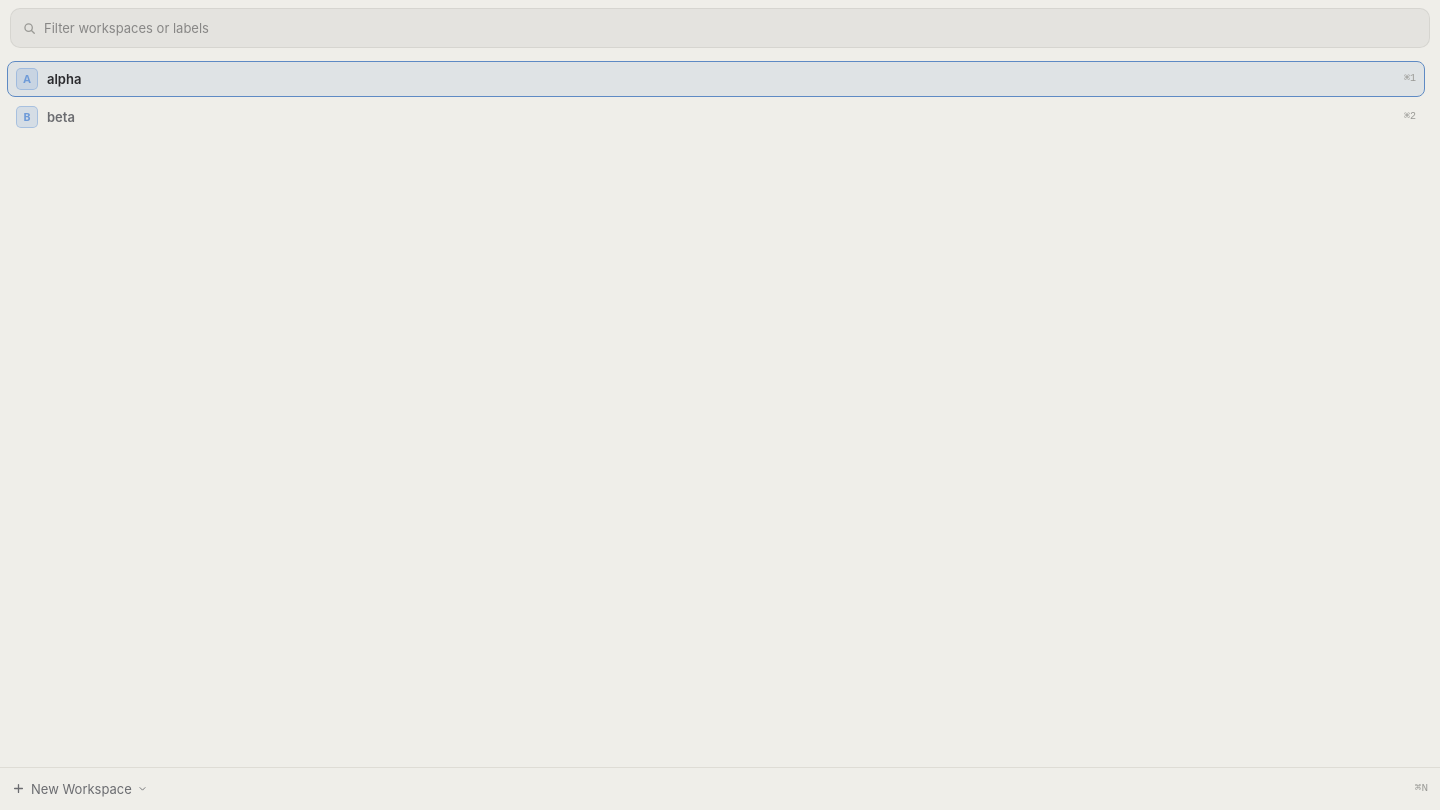
workspace delete gate › warns when the only agent is inactive
Right-click the option with test id "workspace-row" showing "A alpha ⌘1" at (64, 79), box [8, 62, 1424, 96]
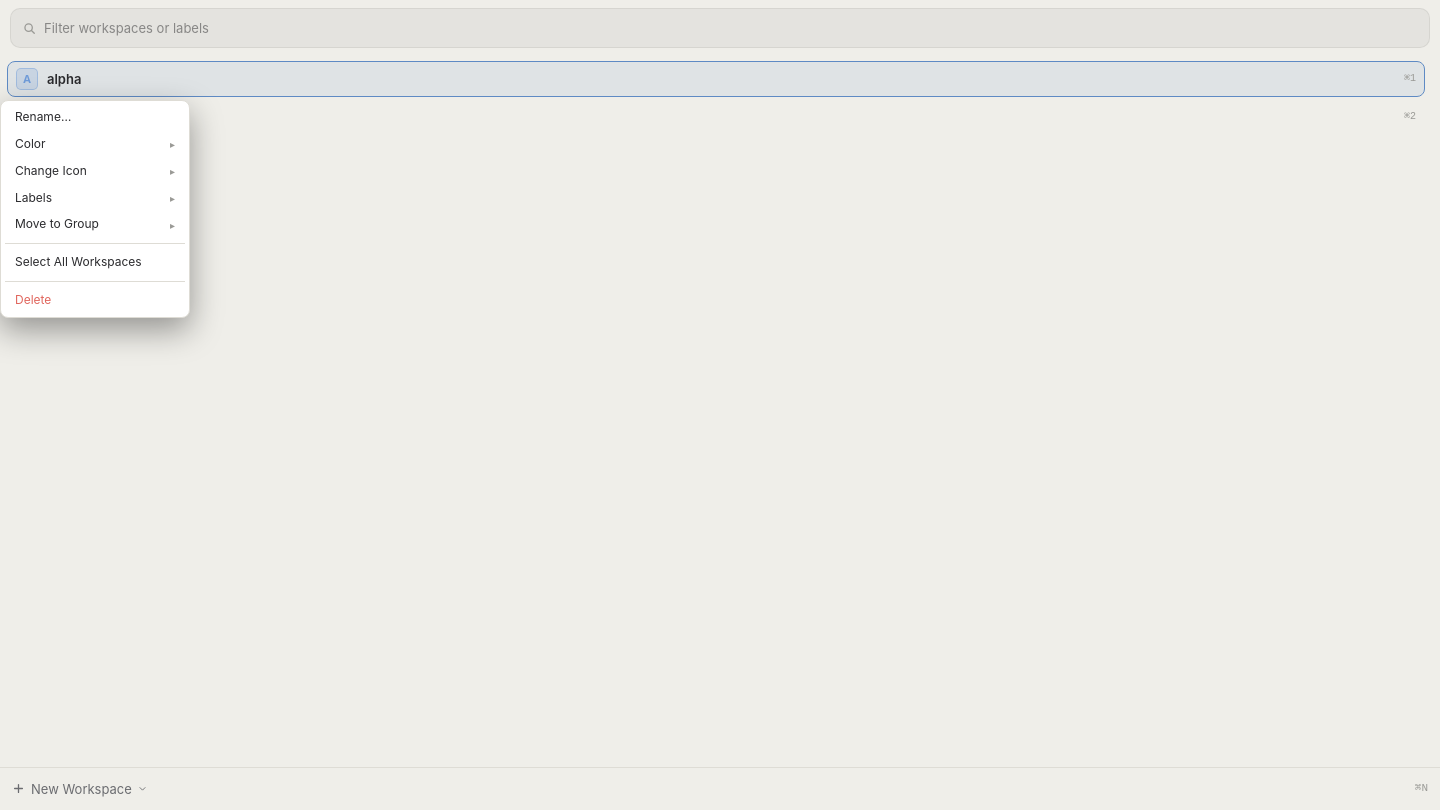
Click the menu item "Delete". click: (95, 300)
box: [5, 288, 185, 313]
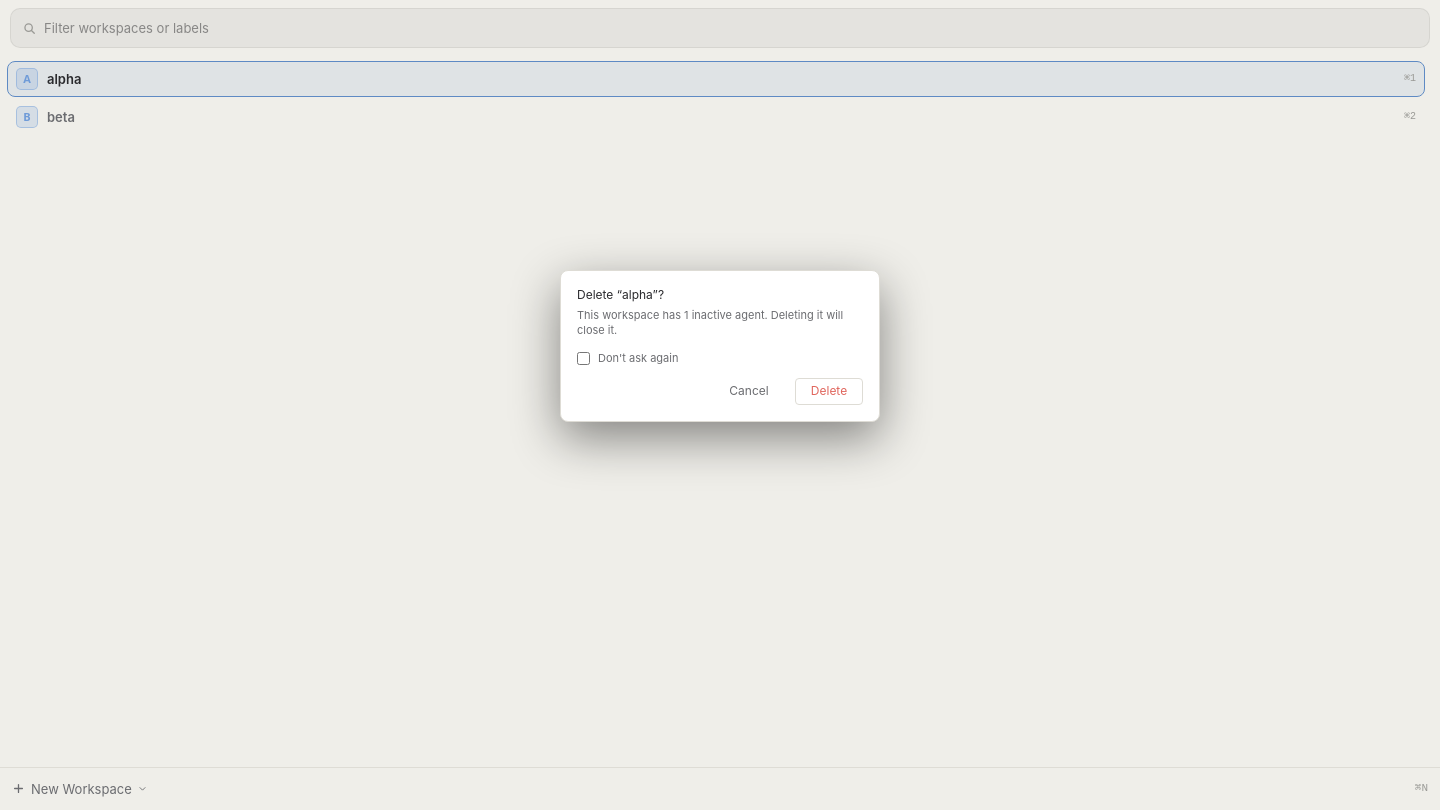
Now the text with test id "confirm-active-agents" reads "This workspace has 1 inactive agent. Deleting it will close it.", box [577, 308, 843, 337]
Now the checkbox with test id "confirm-suppress" is shown, box [577, 352, 590, 365]
